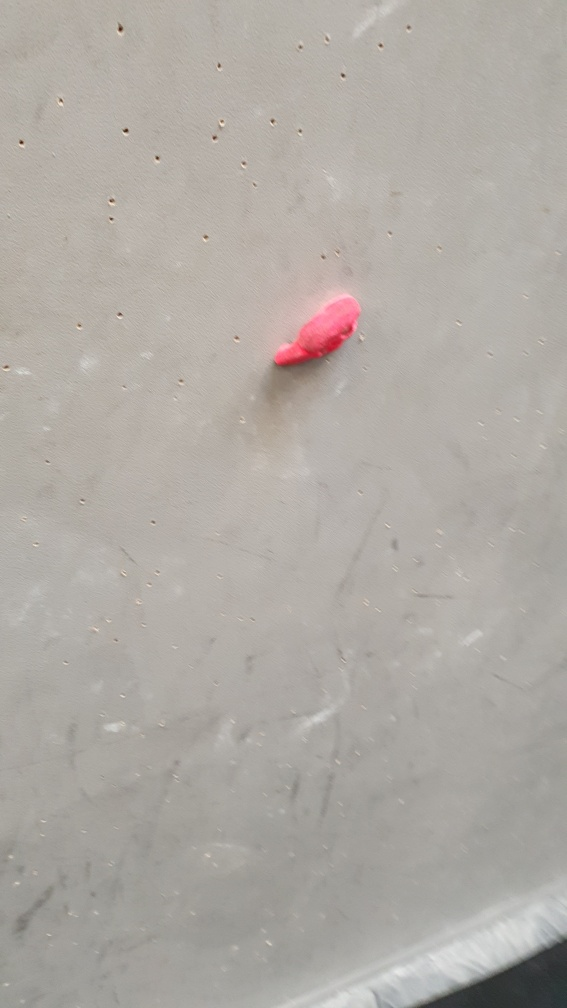Jug: (270, 291, 366, 371)
